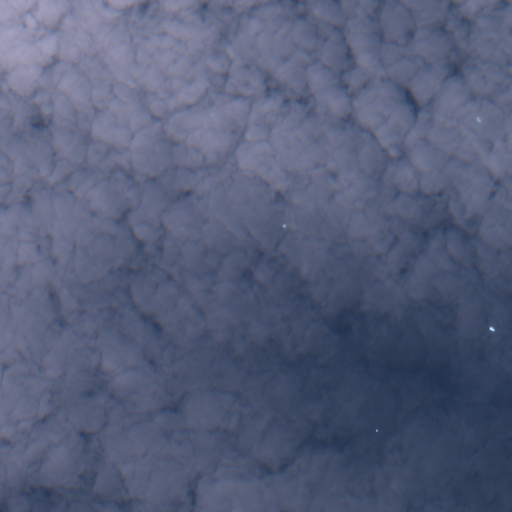Iceberg: (489, 326, 494, 331), (476, 117, 480, 121), (282, 224, 285, 227), (376, 429, 377, 431)
